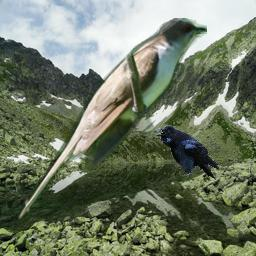Crow: (155, 125, 219, 181)
Cuckoo: (15, 18, 207, 223)
